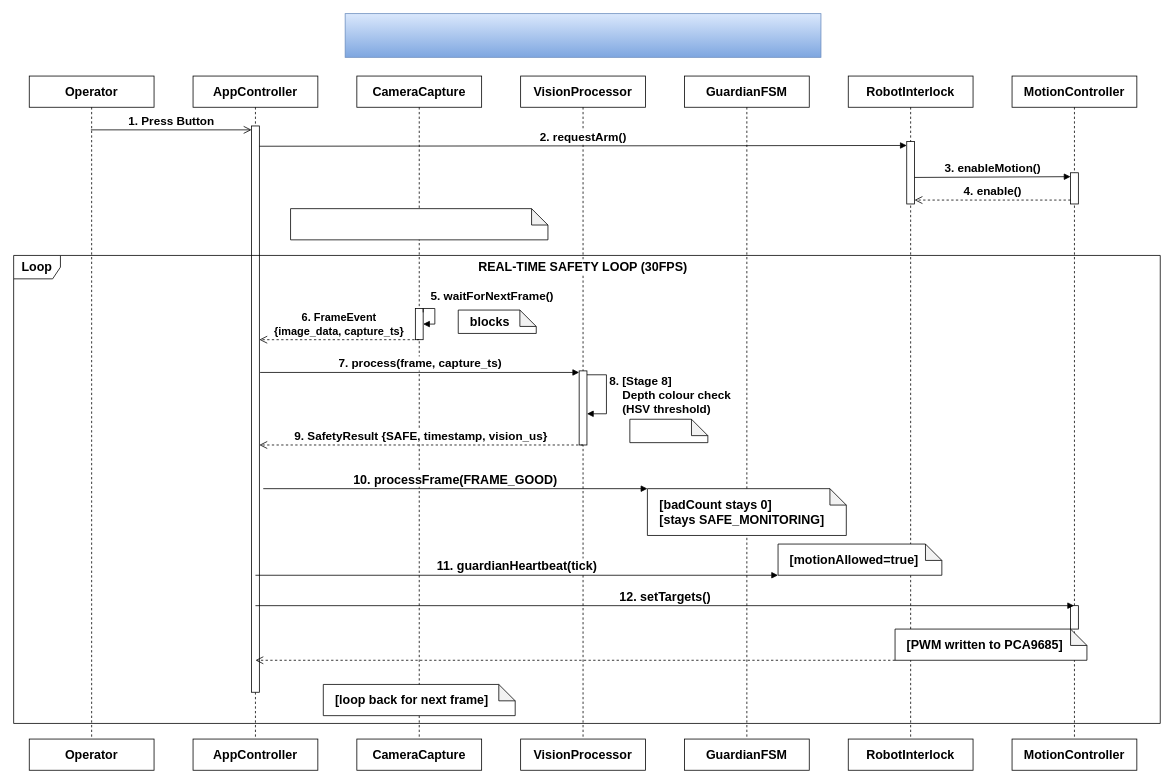
The diagram is 1174 pixels wide and 784 high, and some of its shapes have lost their labels. The shapes that lost their labels are listed below. From the top down, each one's centre as x and y in pixels, then its label:
pixel 582 35: SEQUENCE DIAGRAM: NORMAL SAFE OPERATION
pixel 419 224: [armed=true, motion_gate_open=true]
pixel 668 430: checks
